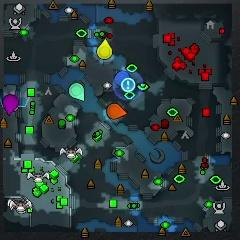Other: (121, 78, 137, 92)
p1: (115, 71, 130, 87)
p2: (69, 83, 84, 102)
p3: (3, 94, 18, 115)
p4: (97, 40, 112, 59)
p5: (106, 104, 127, 119)
